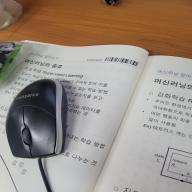mouse: (4, 78, 68, 160)
